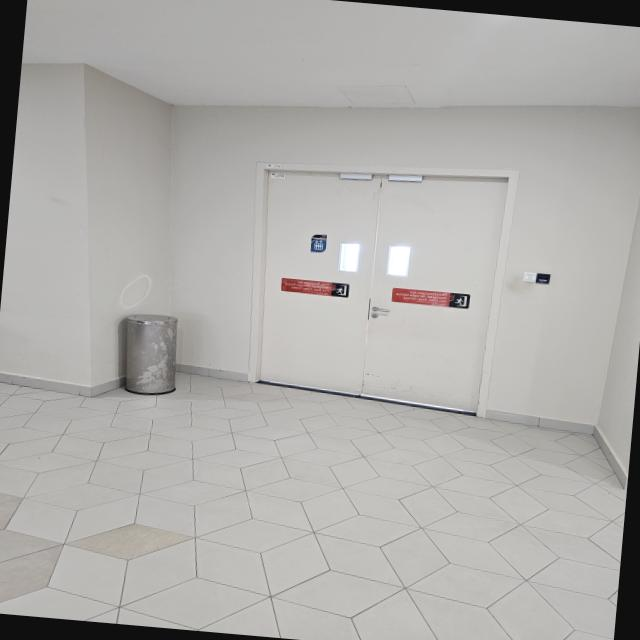door: (240, 152, 512, 416)
footpath: (0, 390, 594, 640)
obstacle: (114, 308, 184, 398)
